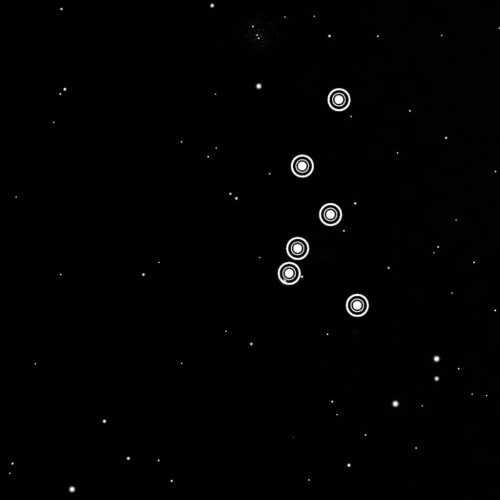cassiopeia: (272, 83, 374, 327)
